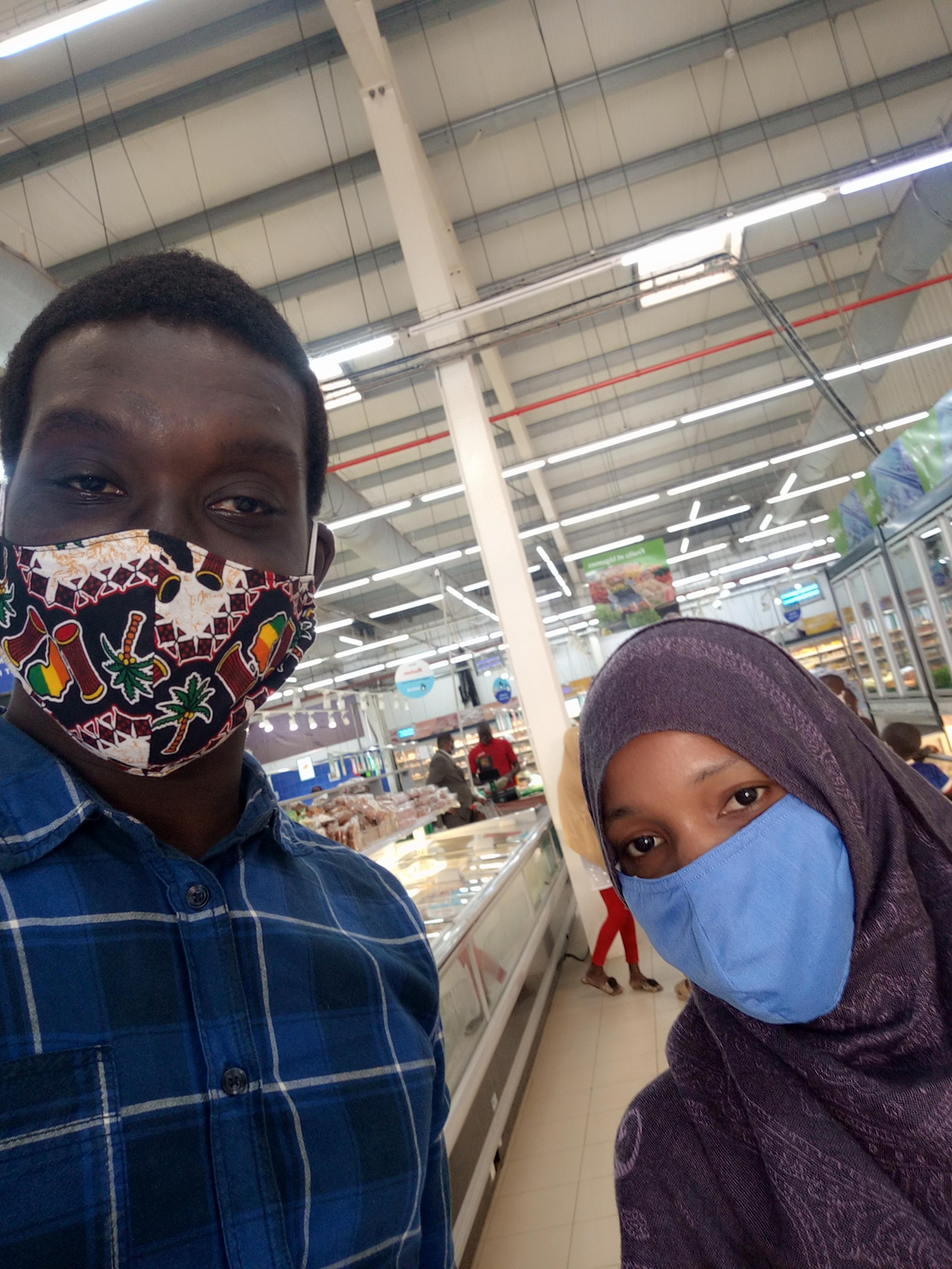Wearing Mask: (4, 199, 345, 873)
